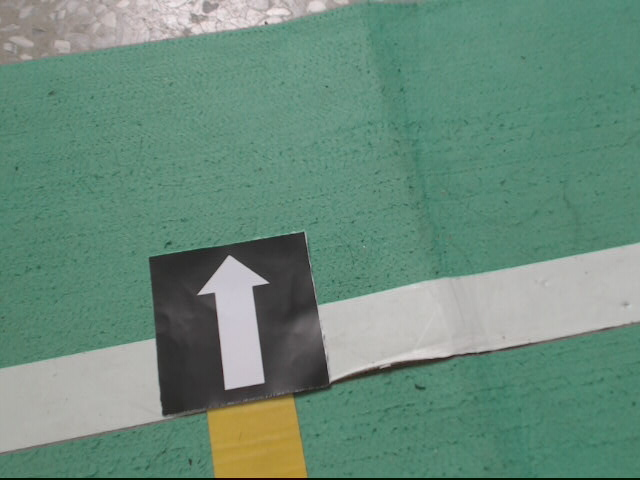straight: (148, 230, 330, 408)
